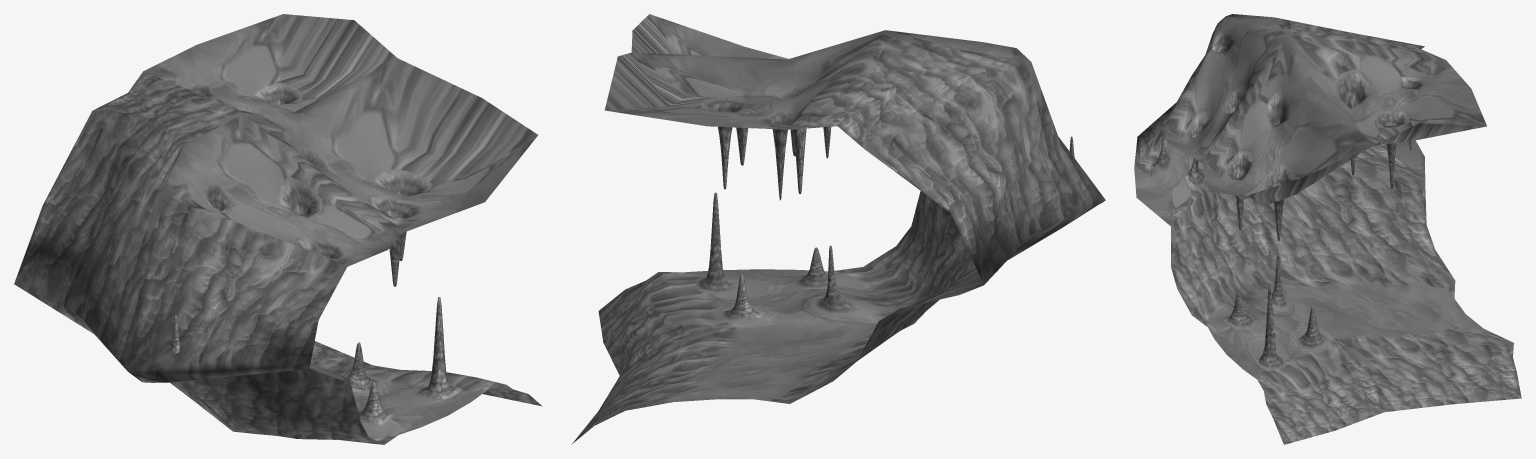
Rendered from SWORDLIGHT20_PS-AREA05_02.obj.
The picture shows the model from 3 angles, left to right: view 1: azimuth 30°, elevation 25°; view 2: azimuth 150°, elevation 25°; view 3: azimuth 270°, elevation 25°; orthographic projection. The views are drawn at different scales.
Parts seen in each view (by area): view 1: PS-Area05_02; view 2: PS-Area05_02; view 3: PS-Area05_02.
Boxes of the visible parts, bbox=[...] form: PS-Area05_02: bbox=[14, 14, 542, 444]; PS-Area05_02: bbox=[572, 14, 1105, 443]; PS-Area05_02: bbox=[1134, 14, 1521, 444].
Size of the model in its own units: 2233 by 1657 by 1990.
